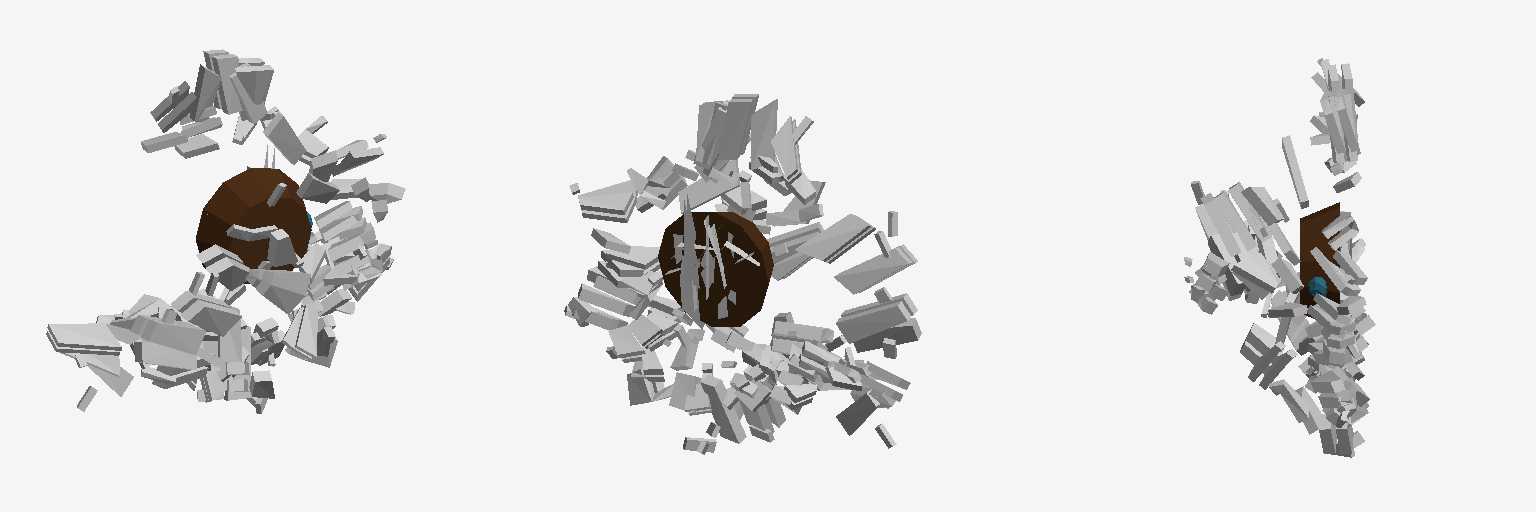
3 views of the same model, side by side, from view 1: azimuth 30°, elevation 25°; view 2: azimuth 150°, elevation 25°; view 3: azimuth 270°, elevation 25° (orthographic).
Parts seen in each view (by area): view 1: Cone.001_Cone.001_cover, Cone_Cone_cover, Cylinder_Cylinder_Material.001; view 2: Cone_Cone_cover, Cone.001_Cone.001_cover, Cylinder_Cylinder_Material.001, Plane_Plane_Material.003; view 3: Cone_Cone_cover, Cone.001_Cone.001_cover, Cylinder_Cylinder_Material.001.
Part boxes in pixels (bbox=[...]): Cone.001_Cone.001_cover: bbox=[46, 49, 386, 411]; Cone_Cone_cover: bbox=[110, 150, 405, 413]; Cylinder_Cylinder_Material.001: bbox=[196, 168, 311, 283]; Cone_Cone_cover: bbox=[564, 156, 921, 454]; Cone.001_Cone.001_cover: bbox=[569, 94, 910, 448]; Cylinder_Cylinder_Material.001: bbox=[658, 212, 773, 326]; Plane_Plane_Material.003: bbox=[665, 194, 759, 329]; Cone_Cone_cover: bbox=[1184, 182, 1375, 457]; Cone.001_Cone.001_cover: bbox=[1191, 58, 1368, 407]; Cylinder_Cylinder_Material.001: bbox=[1300, 202, 1339, 318].
Size of the model in its own units: 3.42 by 3.53 by 1.67.
Materials: 4 (1 with a texture image).